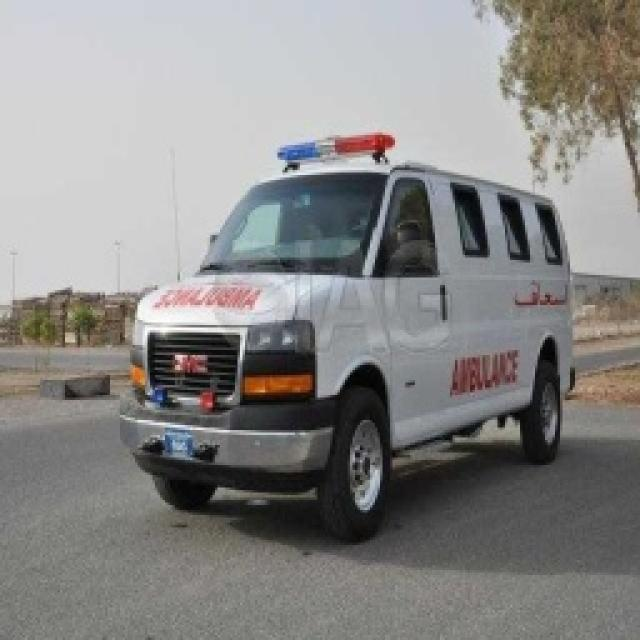ambulance: (120, 133, 572, 539)
